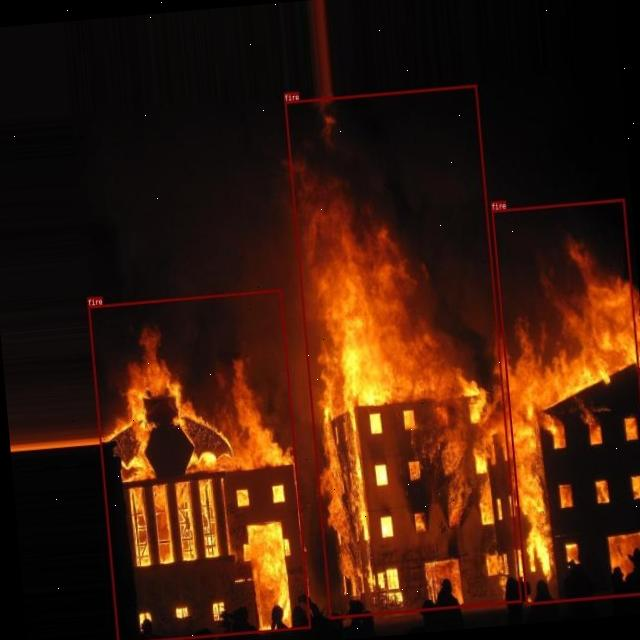fire: (284, 84, 522, 618), (88, 288, 311, 640), (491, 197, 640, 604)
